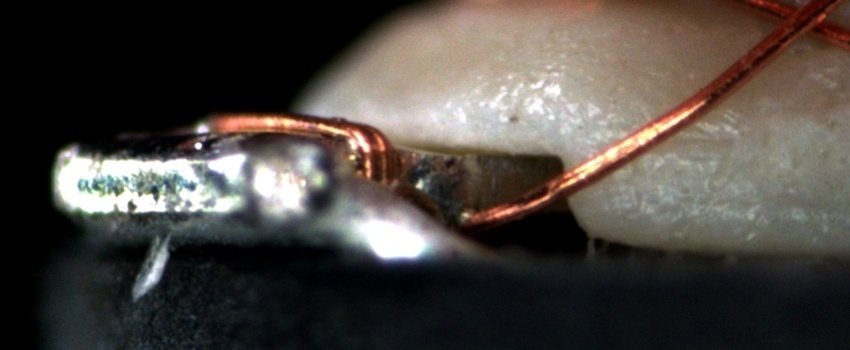CL: (767, 1, 840, 45)
DL: (589, 117, 735, 172)
TE: (193, 102, 398, 197)
